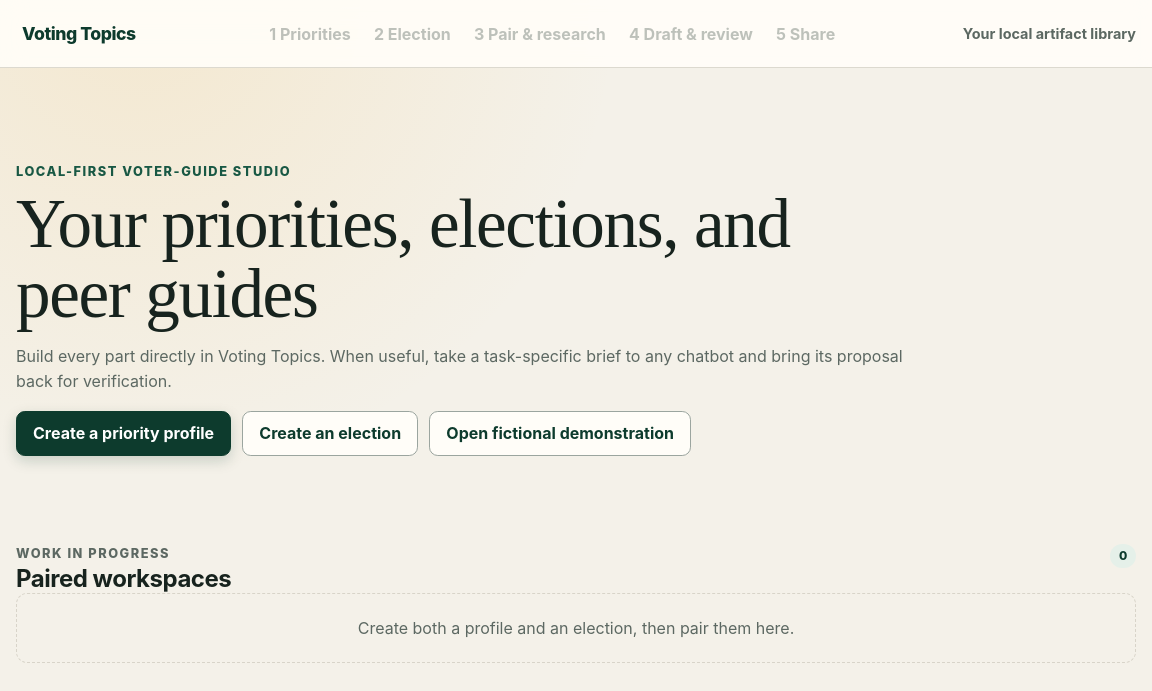
it: corrected Gate 1 shell and safety › starts with a reusable topic profile and exposes all builder stages
Click the button "Open fictional demonstration": (560, 433) [429,411,691,456]
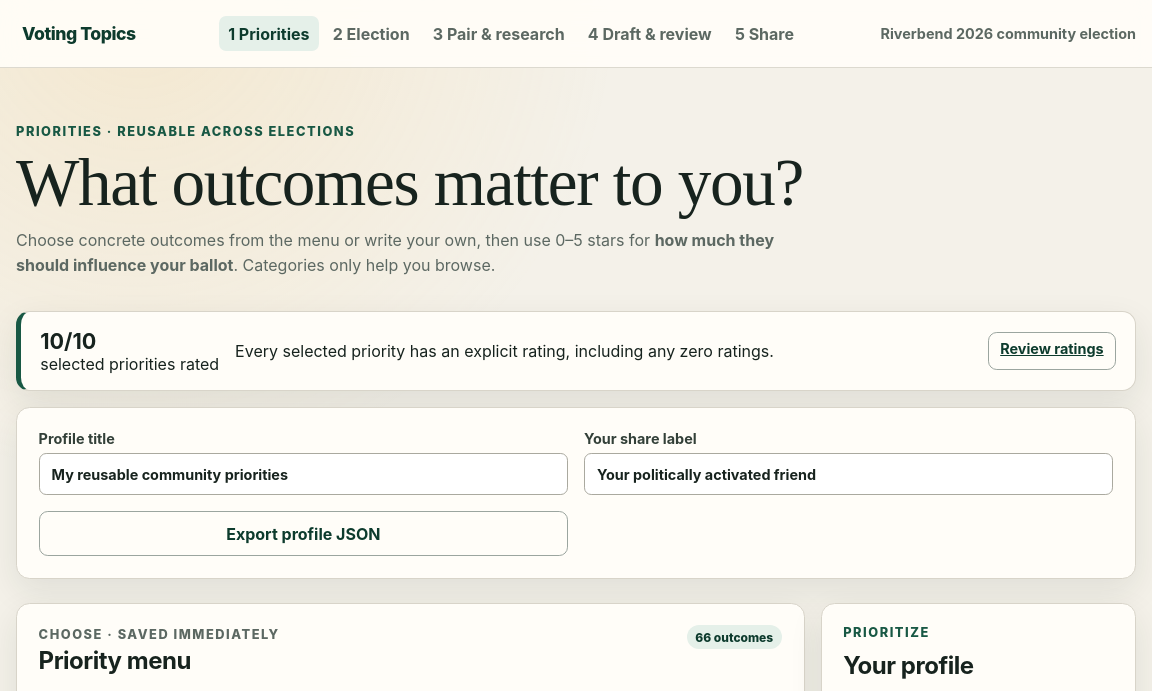
Expected: the button "2 Election" is shown, [323,16,419,51]
Expected: the heading "What outcomes matter to you?" is shown, [16,149,816,217]
